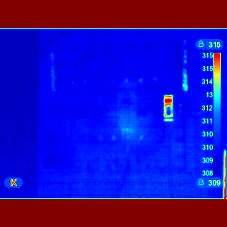Medium: (159, 94, 180, 124)
